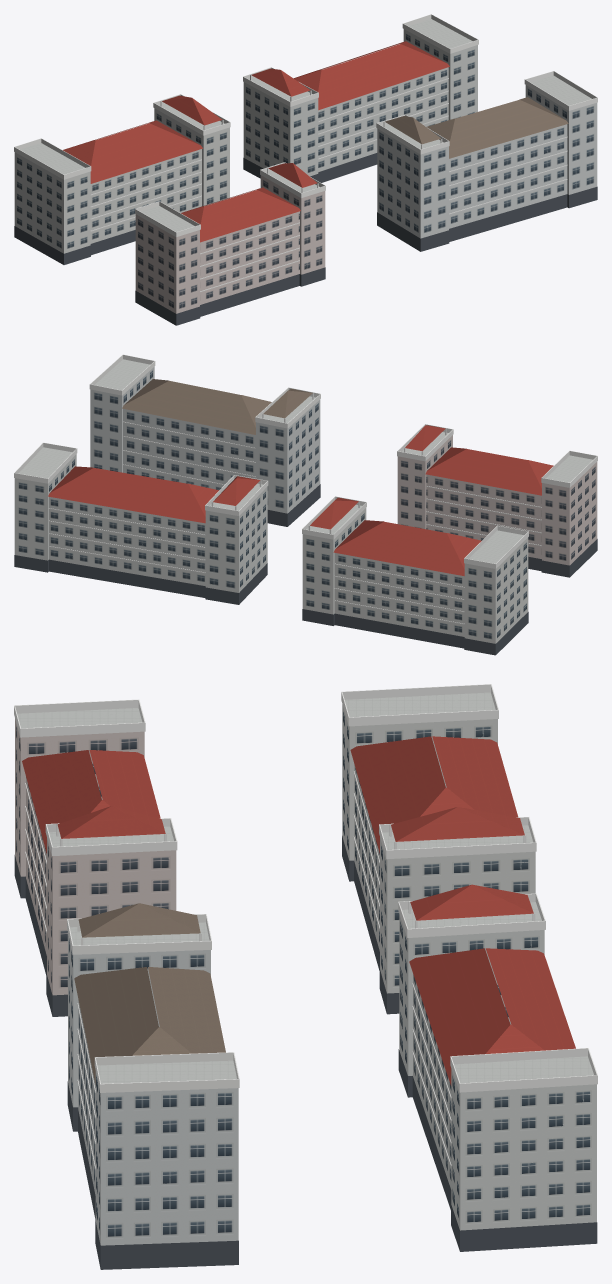
File: dorm_wenyuan_a4.glb
The picture shows the model from 3 angles, top to bottom: view 1: azimuth 30°, elevation 25°; view 2: azimuth 150°, elevation 25°; view 3: azimuth 270°, elevation 25°; orthographic projection. The views are drawn at different scales.
Visible parts, largest first — view 1: 862959390, 862959388, 862959387, 862959389; view 2: 862959388, 862959387, 862959390, 862959389; view 3: 862959388, 862959390, 862959387, 862959389.
Boxes of the visible parts, x1=… form: 862959390: x1=376, y1=71, x2=597, y2=251; 862959388: x1=243, y1=14, x2=478, y2=182; 862959387: x1=14, y1=94, x2=230, y2=264; 862959389: x1=135, y1=162, x2=325, y2=325; 862959388: x1=14, y1=442, x2=268, y2=604; 862959387: x1=302, y1=496, x2=528, y2=655; 862959390: x1=89, y1=354, x2=320, y2=526; 862959389: x1=397, y1=424, x2=597, y2=577; 862959388: x1=398, y1=884, x2=597, y2=1251; 862959390: x1=67, y1=903, x2=239, y2=1269; 862959387: x1=341, y1=684, x2=536, y2=1014; 862959389: x1=14, y1=699, x2=177, y2=1016.
Bounding box in the file's own units: 125 × 29.3 × 72.9.
4 materials, 3 textured.
